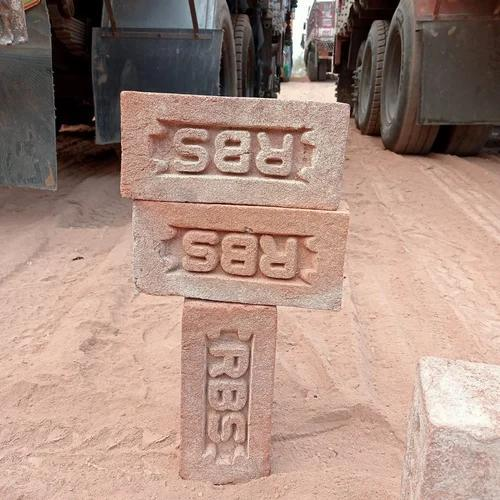brick: (119, 90, 351, 215), (135, 203, 348, 306), (184, 303, 279, 484)
